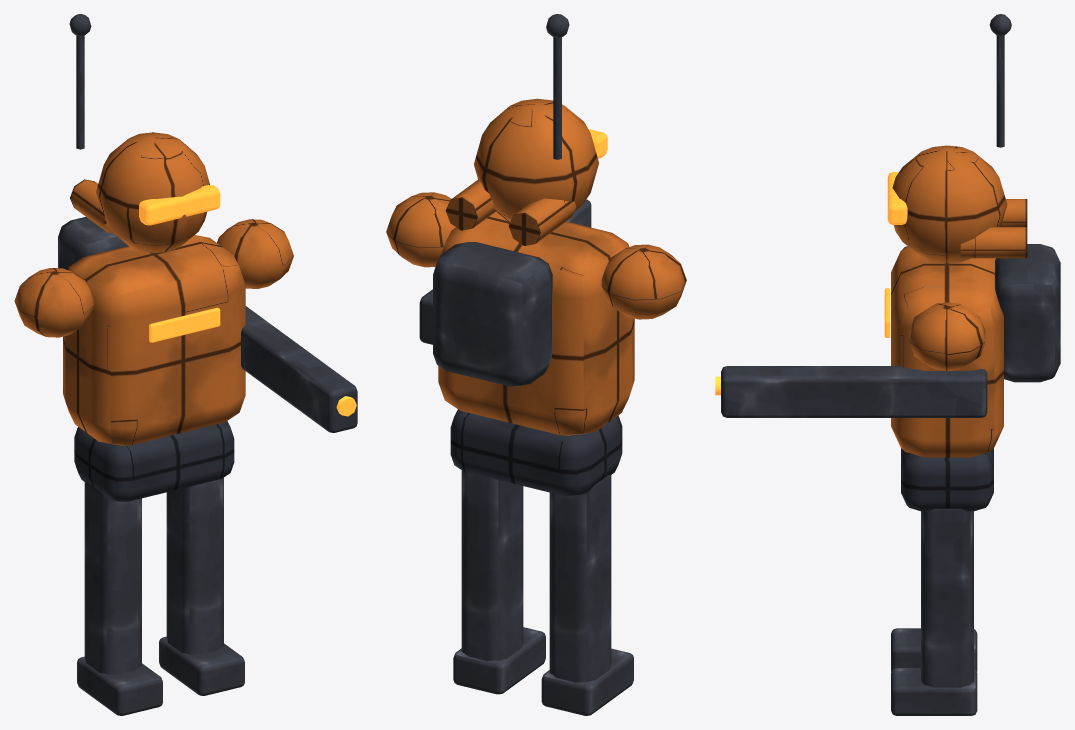
The model's file is sf_knight.glb.
3 views of the same model, side by side, from view 1: azimuth 30°, elevation 25°; view 2: azimuth 150°, elevation 25°; view 3: azimuth 270°, elevation 25° (orthographic). The views are drawn at different scales.
Parts seen in each view (by area): view 1: Turret, Base; view 2: Turret, Base; view 3: Turret, Base.
Boxes of the visible parts, <box> form: Turret: <box>14,14,357,445</box>; Base: <box>74,421,244,715</box>; Turret: <box>386,14,686,435</box>; Base: <box>450,409,633,715</box>; Turret: <box>715,14,1060,457</box>; Base: <box>891,448,993,715</box>.
Bounding box in the file's own units: 0.529 × 1.24 × 0.5965.
Materials: 4 (4 with a texture image).
